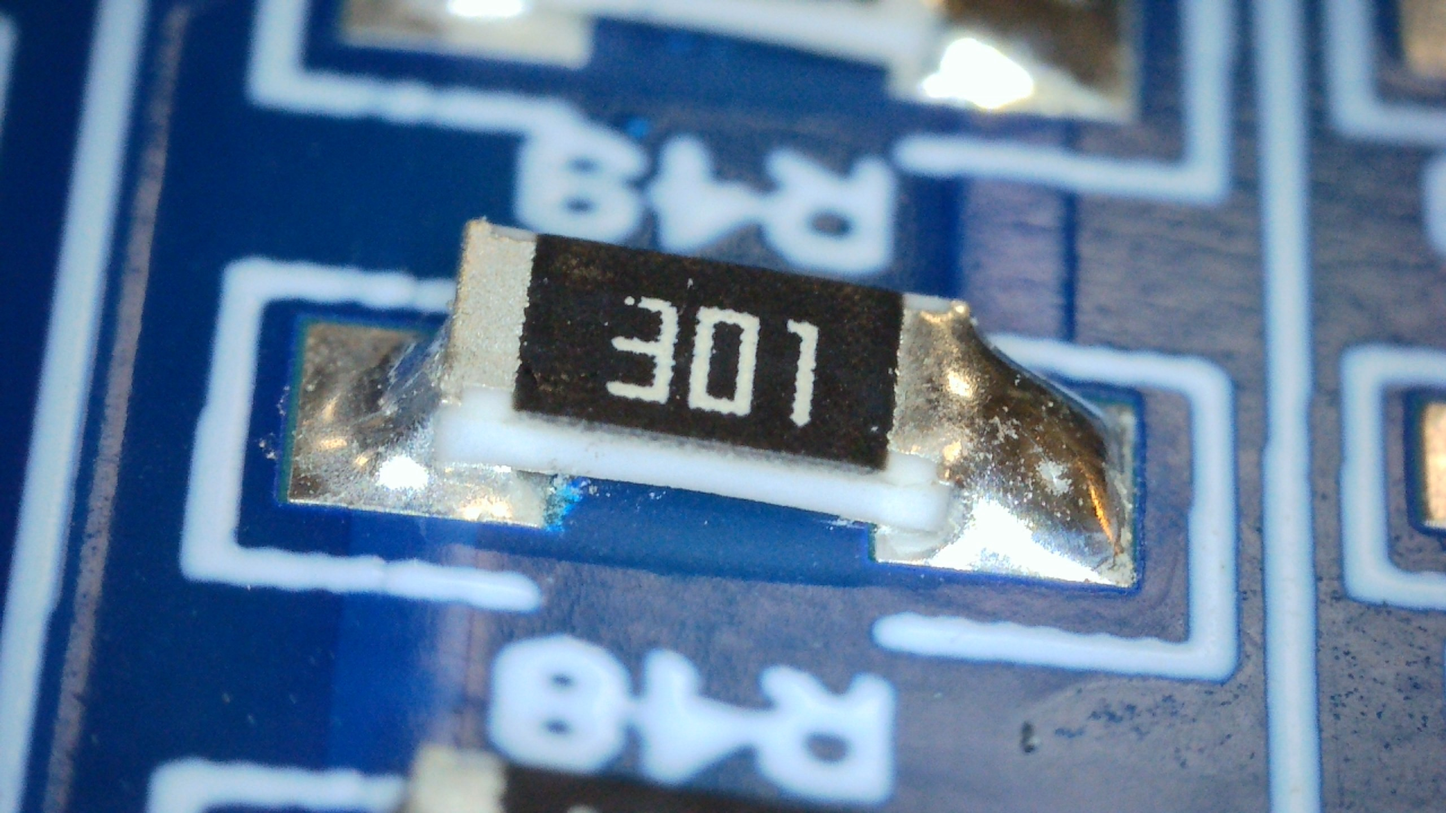NG: (883, 295, 1123, 571), (351, 222, 535, 481)
